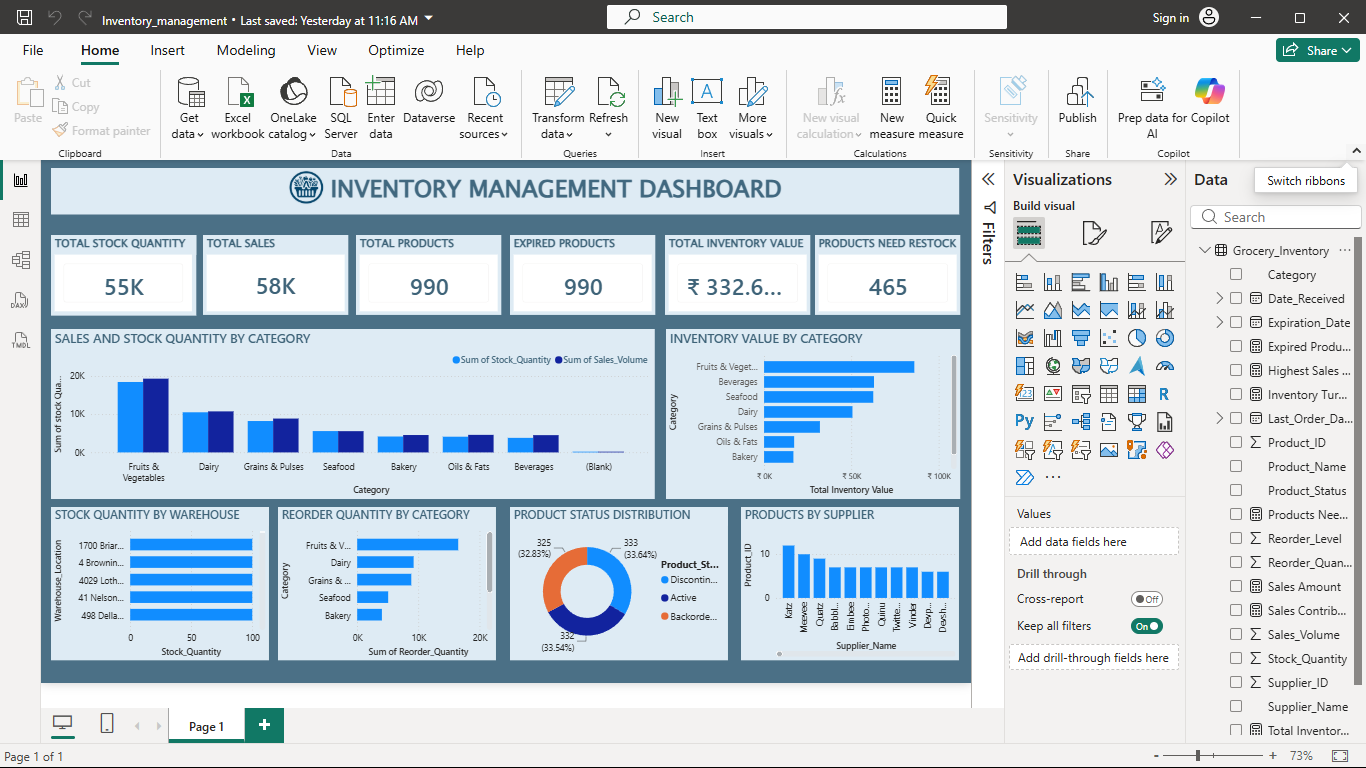

What the dashboard file says about the page in this screenshot:
{"tool":"powerbi","page":{"name":"Page 1","canvas":[1280,720],"ordinal":0},"visuals":[{"type":"cardVisual","title":"TOTAL STOCK QUANTITY","fields":{"Data":["Sum(Grocery_Inventory.Stock_Quantity)"]},"box":[13.8,103.2,199.8,110.6],"z":0},{"type":"cardVisual","title":"TOTAL SALES","fields":{"Data":["Sum(Grocery_Inventory.Sales_Volume)"]},"box":[223.2,103.7,200,110],"z":1000},{"type":"cardVisual","title":"TOTAL PRODUCTS","fields":{"Data":["Count(Grocery_Inventory.Product_ID)"]},"box":[433.4,103.7,200,110],"z":2000},{"type":"cardVisual","title":"EXPIRED PRODUCTS","fields":{"Data":["Grocery_Inventory.Expired Products"]},"box":[645.5,103.2,200,110],"z":3000},{"type":"cardVisual","title":"PRODUCTS NEED RESTOCK","fields":{"Data":["Grocery_Inventory.Products Need Restock"]},"box":[1065.6,103.7,200,110],"z":4000},{"type":"clusteredColumnChart","title":"SALES AND STOCK QUANTITY BY CATEGORY","fields":{"Category":["Grocery_Inventory.Category"],"Y":["Sum(Grocery_Inventory.Stock_Quantity)","Sum(Grocery_Inventory.Sales_Volume)"]},"box":[14.2,232.4,830.6,233.9],"z":5000},{"type":"clusteredBarChart","title":"STOCK QUANTITY BY WAREHOUSE","fields":{"Category":["Grocery_Inventory.Warehouse_Location"],"Y":["Sum(Grocery_Inventory.Stock_Quantity)"]},"box":[14.2,477.6,300,211.2],"z":6000},{"type":"donutChart","title":"PRODUCT STATUS DISTRIBUTION","fields":{"Category":["Grocery_Inventory.Product_Status"],"Y":["Count(Grocery_Inventory.Product_ID)"]},"box":[644.9,477.6,300.5,211.2],"z":7000},{"type":"cardVisual","title":"TOTAL INVENTORY VALUE","fields":{"Data":["Grocery_Inventory.Total Inventory Value"]},"box":[858.9,103.5,200,110],"z":8000},{"type":"clusteredColumnChart","title":"PRODUCTS BY SUPPLIER","fields":{"Category":["Grocery_Inventory.Supplier_Name"],"Y":["CountNonNull(Grocery_Inventory.Product_ID)"]},"box":[963.8,477.6,300.5,211.2],"z":9000},{"type":"clusteredBarChart","title":"INVENTORY VALUE BY CATEGORY","fields":{"Category":["Grocery_Inventory.Category"],"Y":["Grocery_Inventory.Total Inventory Value"]},"box":[860.3,232.4,405.4,233.9],"z":10000},{"type":"clusteredBarChart","title":"REORDER QUANTITY BY CATEGORY","fields":{"Category":["Grocery_Inventory.Category"],"Y":["Sum(Grocery_Inventory.Reorder_Quantity)"]},"box":[326.2,477.6,300.5,211.2],"z":11000},{"type":"textbox","box":[14.2,11.3,1250.1,63.8],"z":12000},{"type":"image","box":[326.9,11.5,77.8,53.3],"z":13000}]}

Visuals, with their boxes on the page's 1280x720 design canvas (x1, y1, x2, y2). These are canvas units, not pixel positions in the 1366x768 screenshot, which may show the page scaled, cropped or inside an application window:
"TOTAL STOCK QUANTITY" cardVisual: locate(14, 103, 214, 214)
"TOTAL SALES" cardVisual: locate(223, 104, 423, 214)
"TOTAL PRODUCTS" cardVisual: locate(433, 104, 633, 214)
"EXPIRED PRODUCTS" cardVisual: locate(646, 103, 846, 213)
"PRODUCTS NEED RESTOCK" cardVisual: locate(1066, 104, 1266, 214)
"SALES AND STOCK QUANTITY BY CATEGORY" clusteredColumnChart: locate(14, 232, 845, 466)
"STOCK QUANTITY BY WAREHOUSE" clusteredBarChart: locate(14, 478, 314, 689)
"PRODUCT STATUS DISTRIBUTION" donutChart: locate(645, 478, 945, 689)
"TOTAL INVENTORY VALUE" cardVisual: locate(859, 104, 1059, 214)
"PRODUCTS BY SUPPLIER" clusteredColumnChart: locate(964, 478, 1264, 689)
"INVENTORY VALUE BY CATEGORY" clusteredBarChart: locate(860, 232, 1266, 466)
"REORDER QUANTITY BY CATEGORY" clusteredBarChart: locate(326, 478, 627, 689)
textbox: locate(14, 11, 1264, 75)
image: locate(327, 12, 405, 65)
